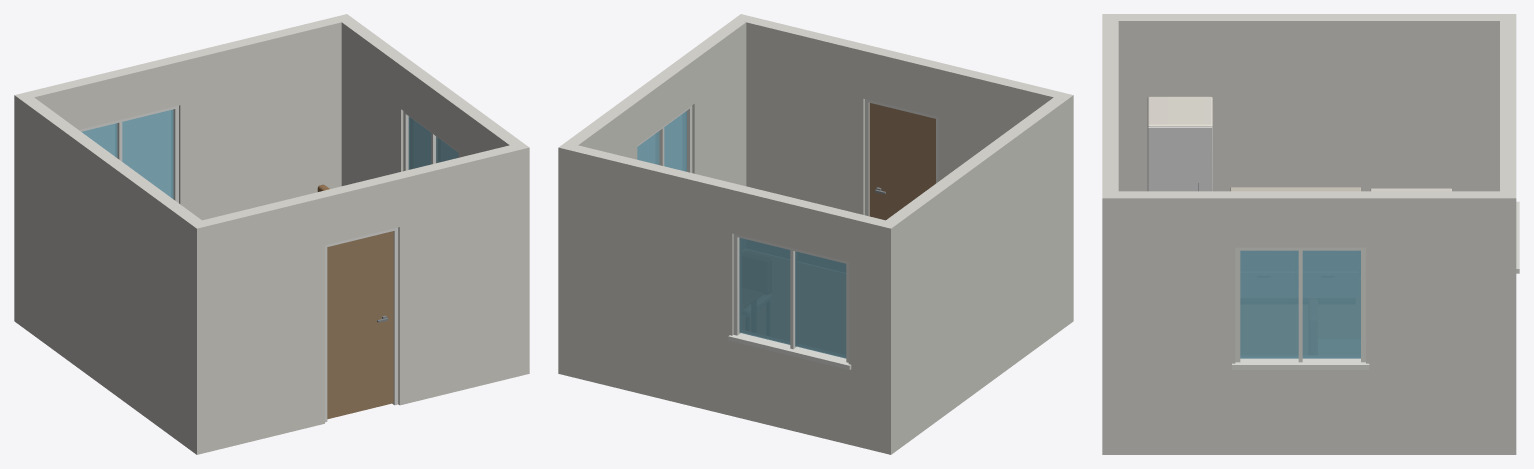
Rendered from oursv11b.glb.
3 renders of one model, left to right at view 1: azimuth 30°, elevation 25°; view 2: azimuth 150°, elevation 25°; view 3: azimuth 270°, elevation 25°, orthographic. The views are drawn at different scales.
Visible parts, largest first — view 1: wall|scenesmith_058__R00|0, wall|scenesmith_058__R00|2, wall|scenesmith_058__R00|1, wall|scenesmith_058__R00|3, wall|scenesmith_058__R00|0 Door 0 | wood leaf, wall|scenesmith_058__R00|1 Window 0 | glazing, wall|scenesmith_058__R00|0 Door 0 | jamb, wall|scenesmith_058__R00|3 Window 0 | glazing, wall|scenesmith_058__R00|1 Window 0 | jamb, wall|scenesmith_058__R00|3 Window 0 | jamb; view 2: wall|scenesmith_058__R00|1, wall|scenesmith_058__R00|2, wall|scenesmith_058__R00|0, wall|scenesmith_058__R00|3, wall|scenesmith_058__R00|1 Window 0 | glazing, wall|scenesmith_058__R00|0 Door 0 | wood leaf, wall|scenesmith_058__R00|1 Window 0 | jamb, wall|scenesmith_058__R00|3 Window 0 | glazing, wall|scenesmith_058__R00|0 Door 0 | jamb, wall|scenesmith_058__R00|3 Window 0 | jamb; view 3: wall|scenesmith_058__R00|3, wall|scenesmith_058__R00|2, wall|scenesmith_058__R00|3 Window 0 | glazing, Freezer drawer, wall|scenesmith_058__R00|3 Window 0 | jamb, wall|scenesmith_058__R00|0, wall|scenesmith_058__R00|1, Appliance enclosure, Stone worktop.
Part boxes in pixels (x1,y1,x2,y2): wall|scenesmith_058__R00|0: [190, 142, 529, 454]; wall|scenesmith_058__R00|2: [14, 92, 201, 454]; wall|scenesmith_058__R00|1: [14, 17, 341, 326]; wall|scenesmith_058__R00|3: [335, 14, 521, 185]; wall|scenesmith_058__R00|0 Door 0 | wood leaf: [327, 231, 393, 419]; wall|scenesmith_058__R00|1 Window 0 | glazing: [81, 109, 173, 199]; wall|scenesmith_058__R00|0 Door 0 | jamb: [325, 227, 398, 422]; wall|scenesmith_058__R00|3 Window 0 | glazing: [408, 116, 458, 169]; wall|scenesmith_058__R00|1 Window 0 | jamb: [79, 105, 178, 202]; wall|scenesmith_058__R00|3 Window 0 | jamb: [403, 111, 458, 171]; wall|scenesmith_058__R00|1: [571, 145, 898, 454]; wall|scenesmith_058__R00|2: [878, 95, 1073, 454]; wall|scenesmith_058__R00|0: [734, 14, 1073, 215]; wall|scenesmith_058__R00|3: [558, 19, 746, 376]; wall|scenesmith_058__R00|1 Window 0 | glazing: [739, 237, 846, 358]; wall|scenesmith_058__R00|0 Door 0 | wood leaf: [869, 103, 935, 220]; wall|scenesmith_058__R00|1 Window 0 | jamb: [728, 234, 851, 369]; wall|scenesmith_058__R00|3 Window 0 | glazing: [637, 111, 686, 171]; wall|scenesmith_058__R00|0 Door 0 | jamb: [865, 99, 938, 216]; wall|scenesmith_058__R00|3 Window 0 | jamb: [637, 105, 692, 172]; wall|scenesmith_058__R00|3: [1102, 191, 1516, 454]; wall|scenesmith_058__R00|2: [1118, 14, 1516, 191]; wall|scenesmith_058__R00|3 Window 0 | glazing: [1240, 250, 1360, 358]; Freezer drawer: [1148, 127, 1212, 191]; wall|scenesmith_058__R00|3 Window 0 | jamb: [1232, 247, 1369, 369]; wall|scenesmith_058__R00|0: [1102, 14, 1118, 198]; wall|scenesmith_058__R00|1: [1500, 21, 1516, 191]; Appliance enclosure: [1147, 96, 1452, 191]; Stone worktop: [1230, 187, 1360, 191].
Bounding box in the file's own units: 4.03 × 2.61 × 3.83.
